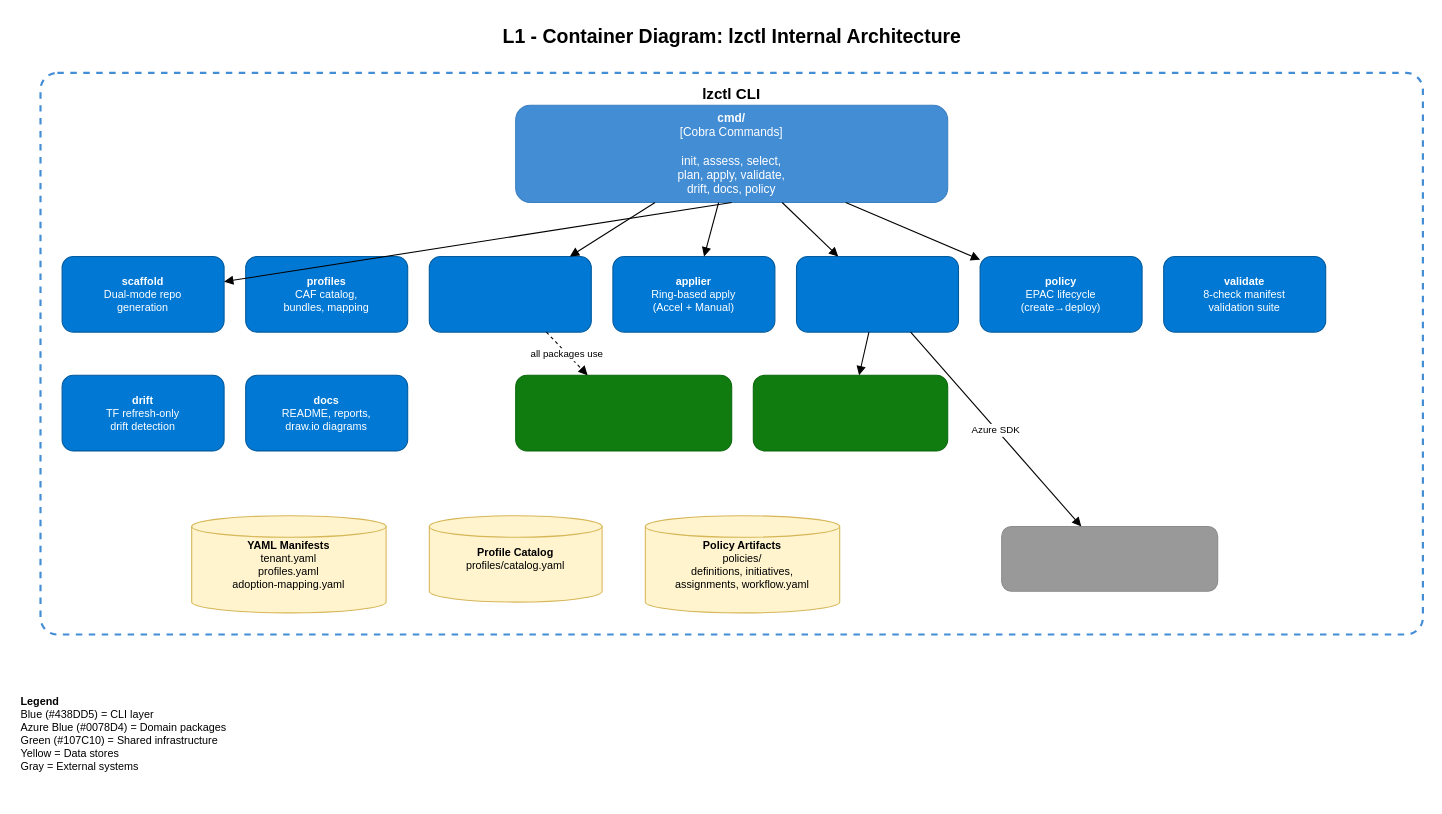
This 1442x814 diagram has some shape labels left out. Each missing label, with the box of its shape:
assess Azure SDK discovery + CAF scorecards: (795, 255, 959, 332)
azauth Azure auth wrapper (CLI/SPN/MSI): (752, 374, 948, 451)
Azure Resource Manager [External]: (1001, 525, 1218, 591)
manifest YAML types, load/save, path resolution: (515, 374, 732, 451)
planner Mode-aware plan + catalog estimation: (428, 255, 591, 332)
